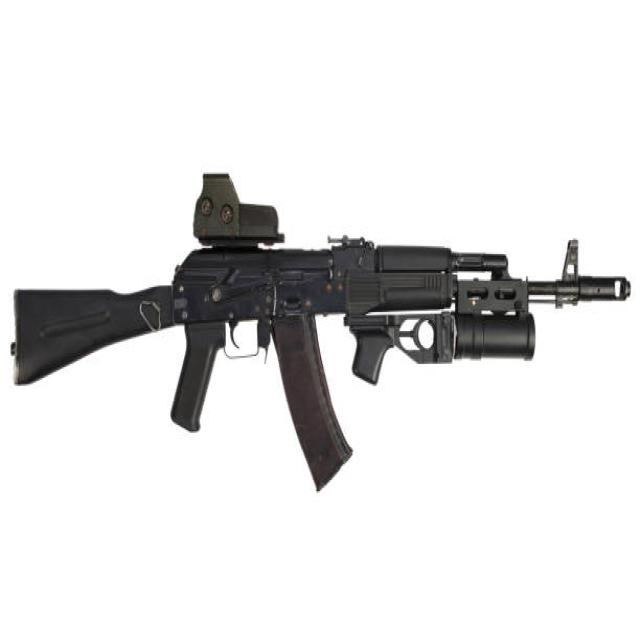rifle: (3, 158, 636, 499)
